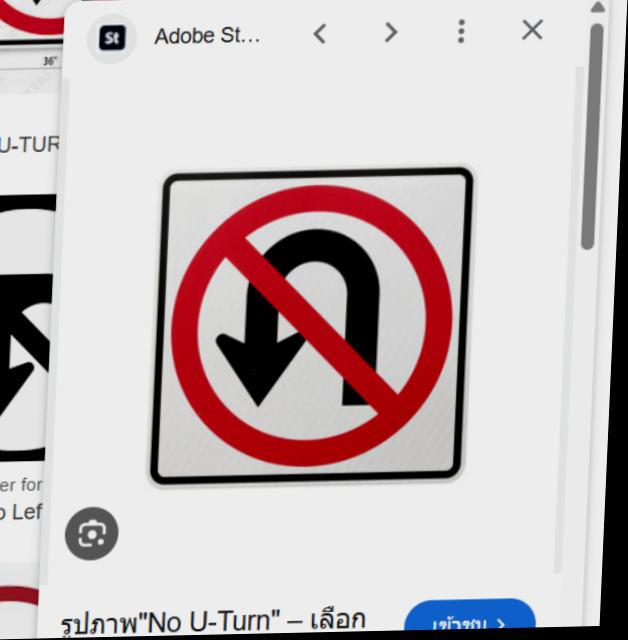not_u_turn_left: (180, 179, 463, 474)
